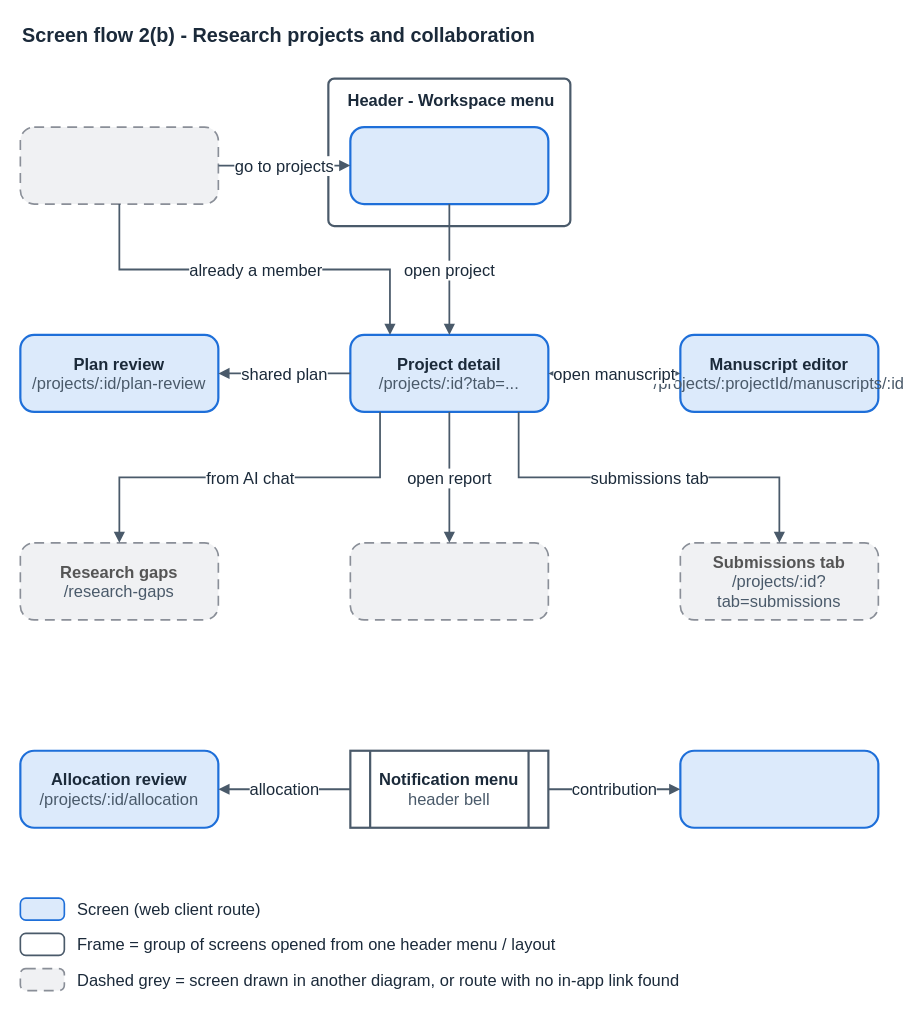
Some shapes in this 923 by 1013 pixel diagram are drawn without their labels. Here are the shapes that lost their labels. From the top down, the box of each, then its label:
(19, 126, 219, 204): Project invitation /invitations/:token
(349, 125, 549, 205): Projects /projects
(349, 542, 549, 620): Report viewer /reports/:id
(679, 749, 879, 828): Contribution review /projects/:id/contribution-review
